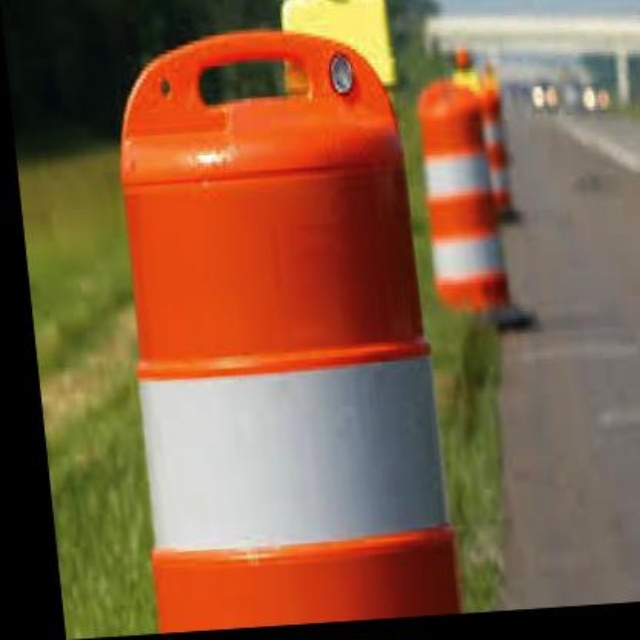obstacle: (94, 32, 451, 631), (411, 93, 516, 337)
